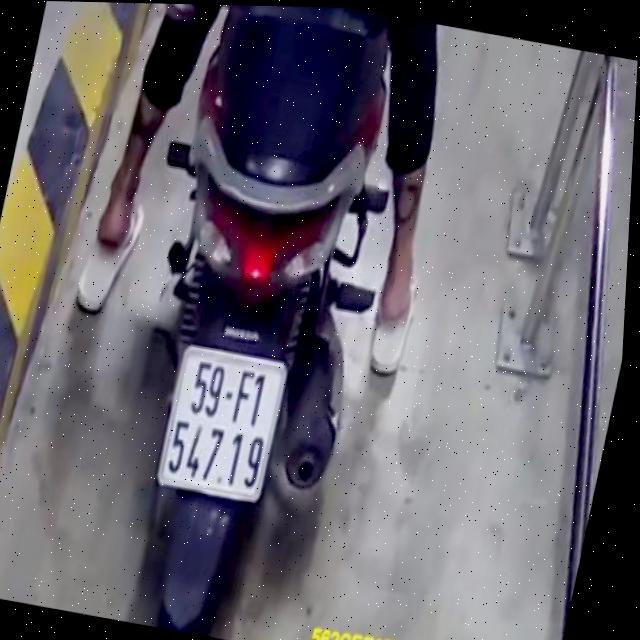motorcycle: (78, 22, 434, 640)
plate: (152, 341, 295, 506)
